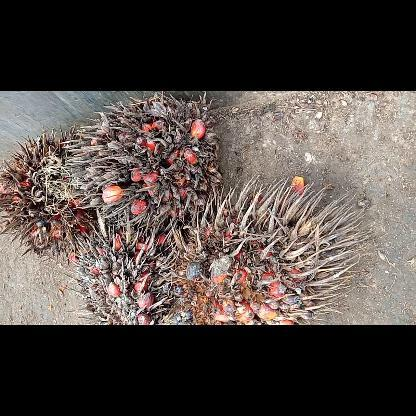Terlalu masak: (154, 172, 376, 322), (58, 90, 228, 235), (62, 210, 198, 324), (0, 122, 104, 270)
